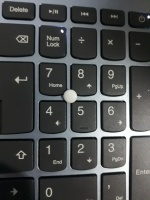Yuvarlak Buskopan: (62, 89, 78, 104)
